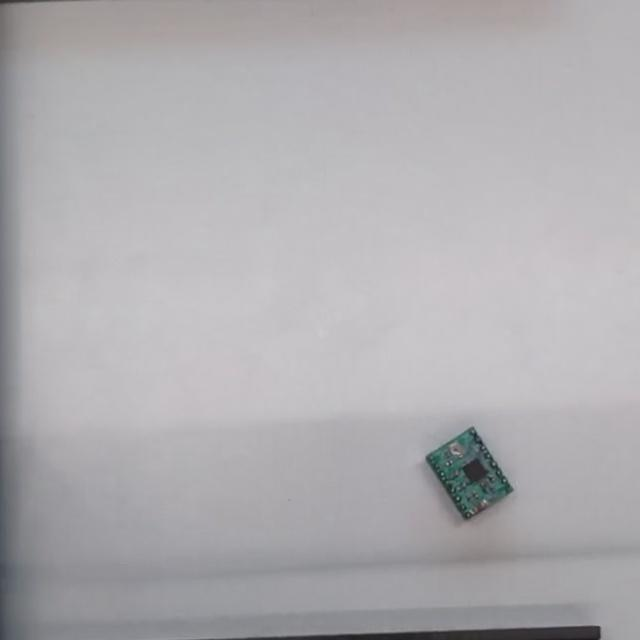Chip: (423, 430, 516, 525)
